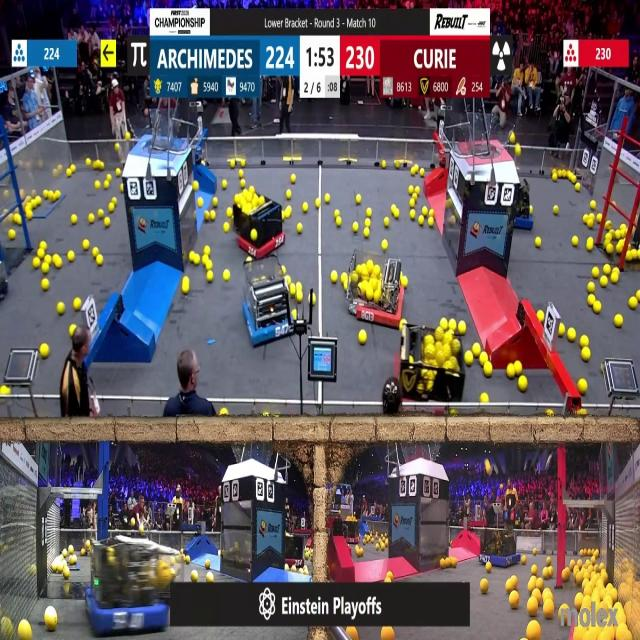ball_airborne: (382, 627, 394, 640), (346, 628, 358, 640), (510, 133, 517, 145), (486, 461, 492, 474), (516, 144, 522, 156)
ball_ground: (44, 610, 56, 631), (528, 622, 540, 640), (20, 622, 32, 640), (542, 601, 553, 619), (528, 599, 538, 616), (518, 377, 528, 392), (511, 593, 520, 609), (40, 345, 49, 359), (567, 327, 576, 341), (582, 348, 591, 361), (505, 580, 514, 593), (578, 380, 586, 394), (458, 320, 466, 334), (181, 280, 189, 294), (629, 296, 638, 308), (482, 580, 489, 595), (358, 332, 366, 345), (506, 364, 514, 377), (73, 297, 81, 310), (484, 363, 492, 376), (610, 272, 618, 285), (464, 352, 472, 365), (541, 590, 551, 600), (574, 595, 581, 609), (58, 304, 66, 316), (616, 314, 624, 326), (594, 302, 602, 314), (558, 324, 566, 336), (516, 360, 522, 376), (54, 256, 62, 268), (562, 568, 570, 580), (206, 571, 214, 582), (68, 251, 76, 262), (592, 268, 600, 279), (588, 282, 596, 293), (582, 337, 590, 348), (190, 570, 198, 581), (441, 319, 449, 330), (330, 272, 337, 284), (472, 344, 479, 356), (542, 566, 549, 578), (528, 582, 535, 594), (600, 277, 608, 287), (82, 240, 89, 251), (222, 271, 229, 282), (603, 266, 610, 277), (400, 277, 407, 288), (392, 207, 399, 218), (480, 352, 487, 363), (617, 243, 624, 254), (606, 244, 613, 255), (42, 279, 48, 291), (588, 239, 594, 251), (70, 327, 76, 339), (536, 576, 542, 588), (290, 284, 296, 296), (482, 392, 489, 402), (571, 237, 578, 247), (97, 255, 104, 265), (8, 231, 15, 241), (32, 198, 39, 208), (450, 557, 457, 567), (450, 320, 457, 330), (285, 207, 292, 217), (48, 190, 55, 200), (207, 272, 213, 283), (34, 257, 40, 268), (193, 253, 199, 264), (27, 209, 33, 220), (0, 386, 8, 394), (43, 254, 51, 262), (204, 246, 211, 255), (98, 209, 105, 218), (13, 215, 20, 224), (206, 263, 213, 272), (363, 218, 370, 227), (98, 161, 105, 170), (202, 254, 209, 263), (534, 238, 540, 248), (71, 214, 77, 224), (589, 294, 595, 304), (104, 217, 110, 227), (382, 241, 388, 251), (411, 210, 417, 220), (531, 564, 537, 574), (384, 217, 390, 227), (537, 312, 543, 322), (337, 216, 343, 226), (419, 215, 425, 225), (212, 198, 218, 208), (303, 203, 309, 213), (594, 214, 600, 224), (55, 189, 61, 199), (64, 568, 70, 578), (296, 292, 302, 302), (342, 273, 348, 283), (220, 410, 227, 418), (363, 230, 369, 239), (223, 222, 229, 231), (226, 208, 232, 217), (590, 201, 596, 210), (42, 265, 48, 274), (554, 206, 560, 215), (94, 247, 100, 256), (192, 181, 198, 190), (290, 174, 296, 183), (365, 208, 371, 217), (286, 189, 292, 198), (422, 208, 428, 217), (199, 200, 205, 209), (108, 204, 114, 213), (38, 249, 44, 258), (486, 563, 492, 572), (43, 189, 49, 198), (205, 560, 211, 569), (205, 212, 211, 221), (236, 193, 242, 202), (353, 222, 358, 232), (428, 217, 433, 227), (356, 193, 361, 203), (327, 195, 332, 205), (211, 211, 216, 221), (441, 559, 446, 569), (584, 214, 589, 224), (40, 242, 46, 250), (104, 180, 110, 188), (410, 200, 416, 208), (221, 180, 227, 188), (412, 168, 418, 176), (579, 410, 585, 418), (240, 180, 246, 188), (114, 143, 120, 151), (545, 557, 551, 565), (381, 162, 387, 170), (87, 160, 93, 168), (284, 564, 290, 572), (295, 282, 301, 290), (90, 214, 95, 223), (296, 223, 301, 232), (589, 219, 594, 228), (386, 575, 392, 582), (106, 174, 112, 181), (452, 411, 458, 418), (110, 198, 116, 205), (412, 192, 418, 199), (546, 411, 552, 418), (420, 169, 425, 177), (574, 183, 579, 191), (67, 170, 72, 178), (247, 256, 252, 264), (553, 174, 558, 182), (229, 159, 234, 167), (570, 175, 575, 183), (241, 161, 246, 169), (281, 267, 286, 275), (312, 294, 316, 304), (316, 200, 320, 209), (410, 185, 414, 194), (96, 180, 100, 189), (522, 556, 526, 565), (70, 547, 74, 556), (570, 560, 574, 569), (336, 210, 341, 217), (395, 163, 400, 170), (532, 547, 537, 554), (298, 567, 303, 574), (400, 319, 405, 326), (71, 166, 76, 173), (292, 310, 296, 318), (240, 170, 244, 178), (344, 283, 348, 291), (636, 290, 640, 298), (306, 552, 310, 560), (291, 566, 296, 572), (116, 169, 120, 176), (119, 184, 123, 191), (416, 186, 420, 193), (305, 568, 309, 575), (377, 543, 381, 549), (536, 550, 539, 557), (218, 551, 221, 557)
goal: (460, 117, 519, 158), (128, 115, 186, 152)
robot_blue: (88, 541, 169, 630), (243, 261, 296, 345), (482, 526, 520, 566), (514, 196, 535, 230)
robot_red: (397, 318, 468, 414), (348, 256, 405, 325), (233, 190, 284, 260), (284, 534, 304, 568), (342, 516, 362, 546)
